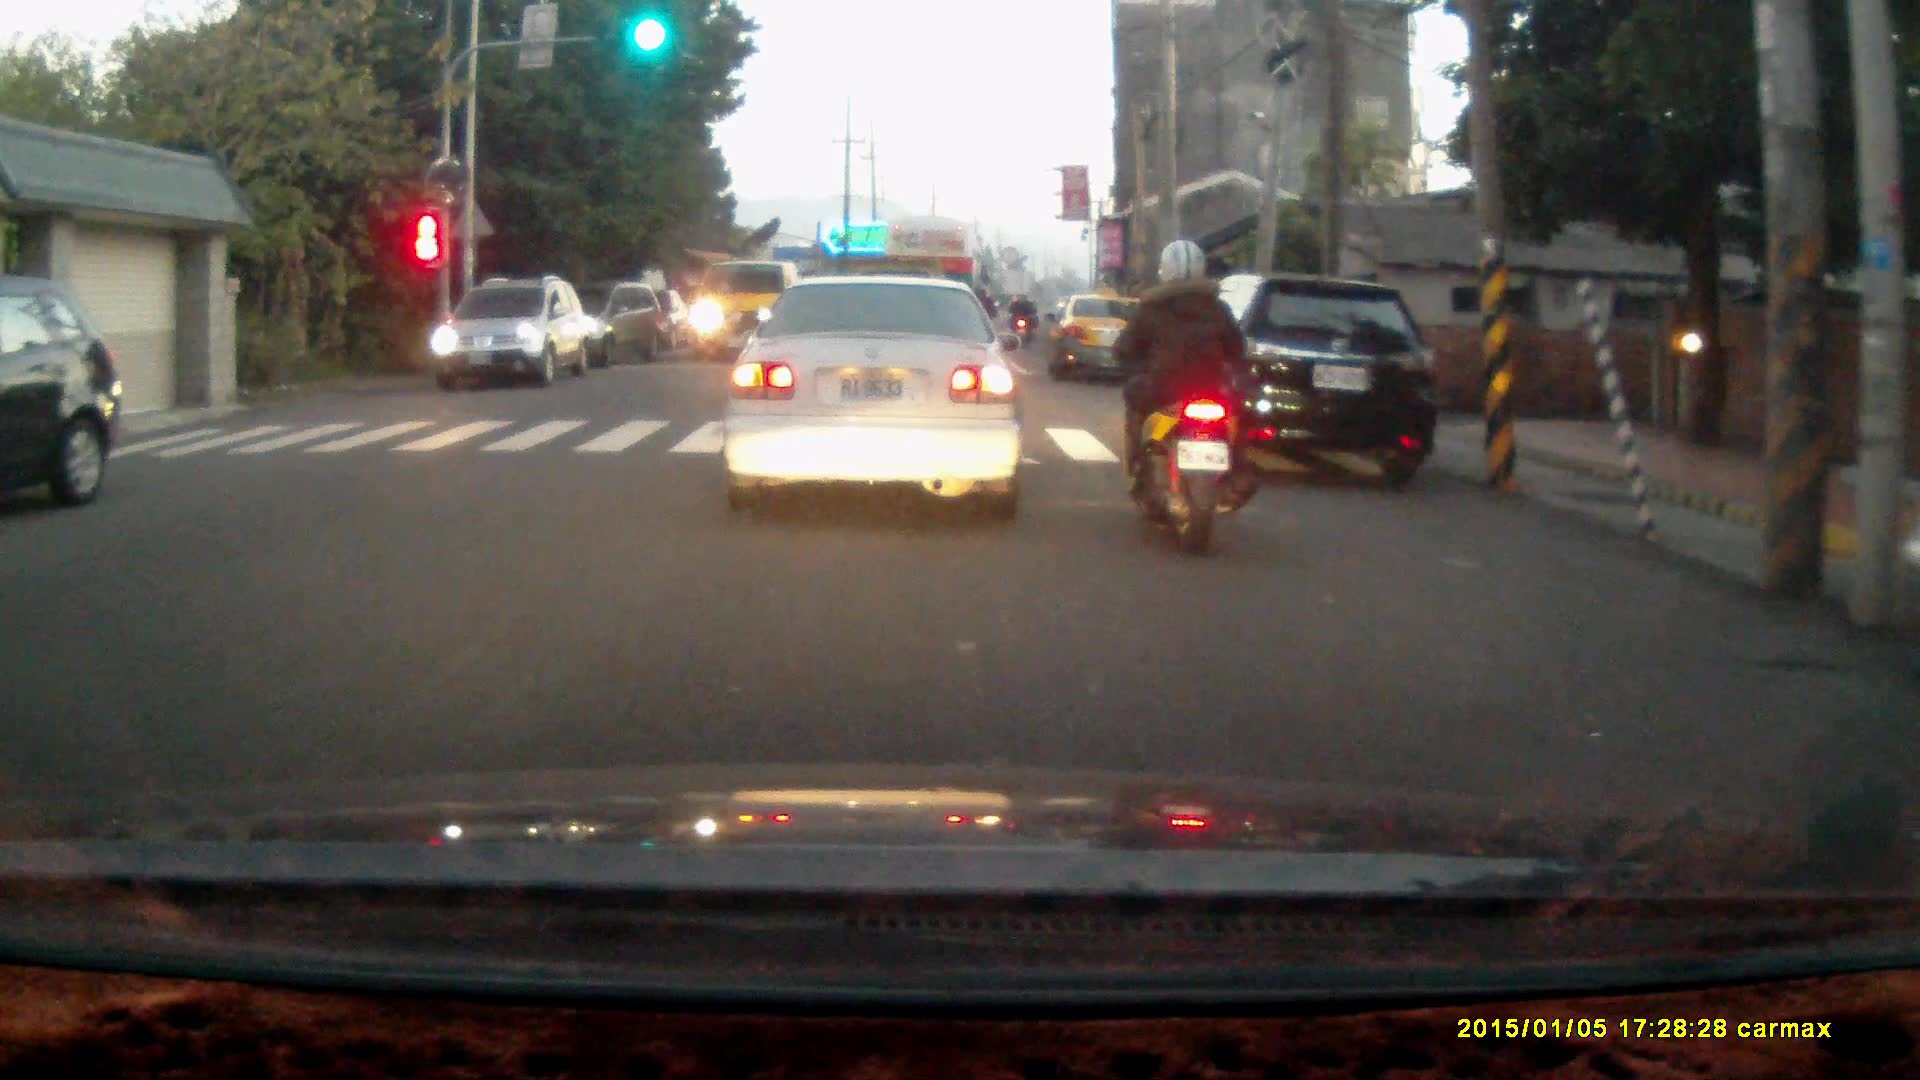rider: (1098, 235, 1255, 554)
vehicle: (720, 273, 1025, 524), (1153, 277, 1447, 487), (1, 275, 129, 515), (428, 278, 597, 399), (880, 216, 989, 354), (686, 262, 814, 368), (542, 278, 668, 371), (1050, 296, 1158, 389)
